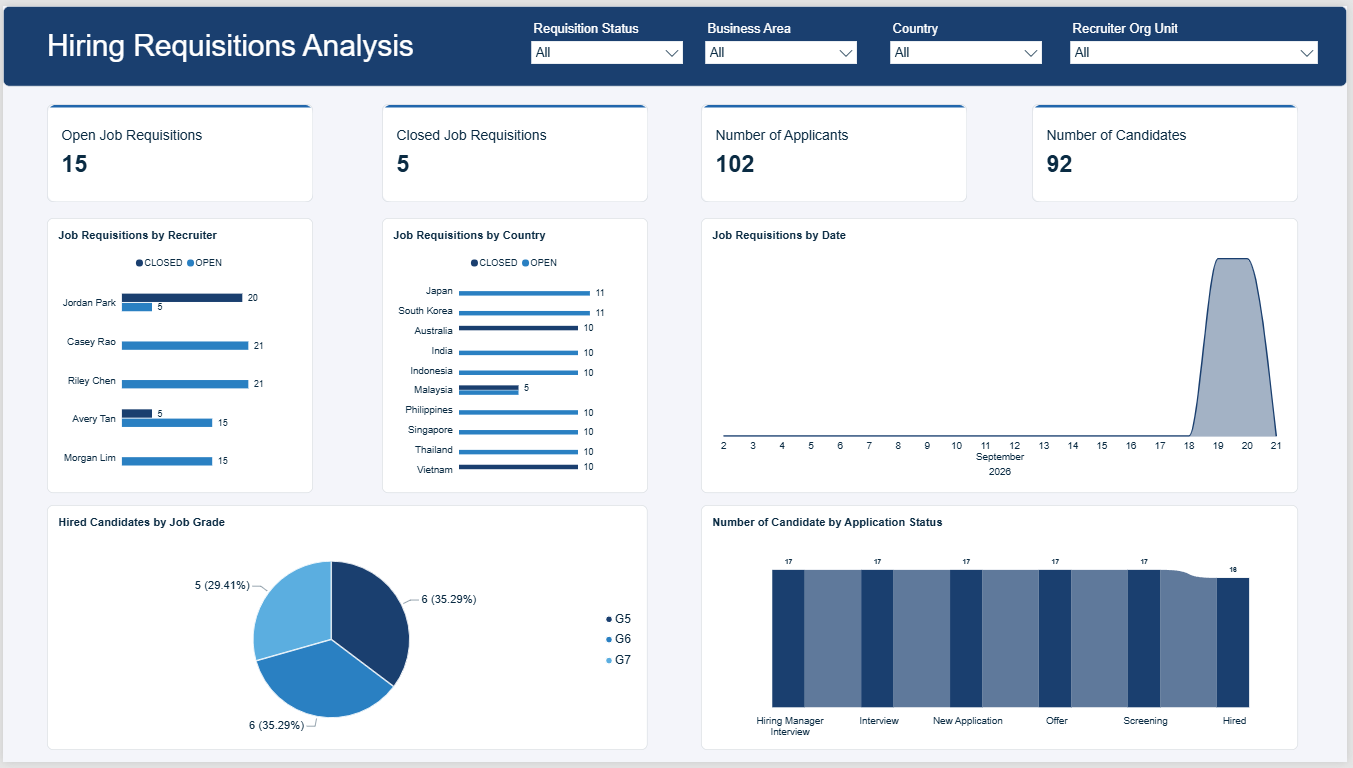

What the dashboard file says about the page in this screenshot:
{"tool":"powerbi","page":{"name":"Page 1","canvas":[1920,1080],"ordinal":0},"visuals":[{"type":"shape","box":[0,0,1920,115],"z":0},{"type":"cardVisual","fields":{"Data":["Count(FCT_APPLICATIONS.JOB_REQ_ID)"]},"box":[63.3,140.3,380,140.3],"z":1000},{"type":"cardVisual","fields":{"Data":["Count(FCT_APPLICATIONS.JOB_REQ_ID)"]},"box":[541.7,140.3,380,140.3],"z":2000},{"type":"cardVisual","fields":{"Data":["Count(FCT_APPLICATIONS.APPLICATION_ID)"]},"box":[996.7,140,380,140.3],"z":3000},{"type":"cardVisual","fields":{"Data":["Count(FCT_APPLICATIONS.CANDIDATE_ID)"]},"box":[1470,140,380,140.3],"z":4000},{"type":"slicer","fields":{"Values":["DIM_REQUISITIONS.BUSINESS_AREA"]},"box":[998.3,21.7,226,73.3],"z":5000},{"type":"slicer","fields":{"Values":["DIM_REQUISITIONS.COUNTRY"]},"box":[1263.3,21.7,226,73.3],"z":6000},{"type":"slicer","fields":{"Values":["DIM_RECRUITERS.RECRUITER_ORG_UNIT"]},"box":[1520,21.7,363.3,73.3],"z":7000},{"type":"slicer","fields":{"Values":["DIM_REQUISITIONS.REQUISITION_STATUS"]},"box":[750,21.7,226,73.3],"z":8000},{"type":"clusteredBarChart","title":"Job Requisitions by Recruiter","fields":{"Category":["DIM_RECRUITERS.RECRUITER_NAME"],"Series":["DIM_REQUISITIONS.REQUISITION_STATUS"],"Y":["CountNonNull(FCT_APPLICATIONS.JOB_REQ_ID)"]},"box":[63.3,303.3,380,393.3],"z":9000},{"type":"clusteredBarChart","title":"Job Requisitions by Country","fields":{"Category":["DIM_REQUISITIONS.COUNTRY"],"Series":["DIM_REQUISITIONS.REQUISITION_STATUS"],"Y":["CountNonNull(FCT_APPLICATIONS.JOB_REQ_ID)"]},"box":[541.7,303.3,380,393.3],"z":10000},{"type":"ribbonChart","title":"Number of Candidate by Application Status","fields":{"Category":["FCT_APPLICATIONS.APPLICATION_STATUS"],"Y":["Count(FCT_APPLICATIONS.CANDIDATE_ID)"]},"box":[996.7,713.3,853.3,350],"z":11000},{"type":"pieChart","title":"Hired Candidates by Job Grade","fields":{"Category":["DIM_REQUISITIONS.JOB_GRADE"],"Y":["Count(FCT_APPLICATIONS.CANDIDATE_ID)"]},"box":[63.3,713.3,858.3,350],"z":12000},{"type":"lineChart","title":"Job Requisitions by Date","fields":{"Category":["DIM_REQUISITIONS.APPROVED_DATE.Variation.Date Hierarchy.Year","DIM_REQUISITIONS.APPROVED_DATE.Variation.Date Hierarchy.Month","DIM_REQUISITIONS.APPROVED_DATE.Variation.Date Hierarchy.Day"],"Y":["CountNonNull(FCT_APPLICATIONS.CANDIDATE_ID)"]},"box":[996.7,303.3,853.3,393.3],"z":13000},{"type":"textbox","box":[63.3,33,600,73.3],"z":13001}]}

Visuals, with their boxes in screenshot pixels (x1, y1, x2, y2), scaled from the page's 1920x1080 canvas onto the 1353x768 screenshot:
shape: x1=0, y1=0, x2=1352, y2=82
cardVisual - Count(FCT_APPLICATIONS.JOB_REQ_ID): x1=45, y1=100, x2=312, y2=200
cardVisual - Count(FCT_APPLICATIONS.JOB_REQ_ID): x1=382, y1=100, x2=650, y2=200
cardVisual - Count(FCT_APPLICATIONS.APPLICATION_ID): x1=702, y1=100, x2=970, y2=199
cardVisual - Count(FCT_APPLICATIONS.CANDIDATE_ID): x1=1036, y1=100, x2=1304, y2=199
slicer - DIM_REQUISITIONS.BUSINESS_AREA: x1=703, y1=15, x2=863, y2=68
slicer - DIM_REQUISITIONS.COUNTRY: x1=890, y1=15, x2=1049, y2=68
slicer - DIM_RECRUITERS.RECRUITER_ORG_UNIT: x1=1071, y1=15, x2=1327, y2=68
slicer - DIM_REQUISITIONS.REQUISITION_STATUS: x1=529, y1=15, x2=688, y2=68
"Job Requisitions by Recruiter" clusteredBarChart: x1=45, y1=216, x2=312, y2=495
"Job Requisitions by Country" clusteredBarChart: x1=382, y1=216, x2=650, y2=495
"Number of Candidate by Application Status" ribbonChart: x1=702, y1=507, x2=1304, y2=756
"Hired Candidates by Job Grade" pieChart: x1=45, y1=507, x2=649, y2=756
"Job Requisitions by Date" lineChart: x1=702, y1=216, x2=1304, y2=495
textbox: x1=45, y1=23, x2=467, y2=76
